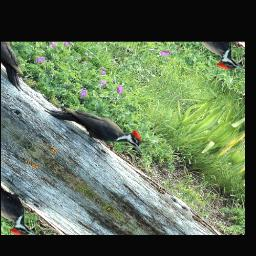Woodpecker: (44, 84, 153, 170)
